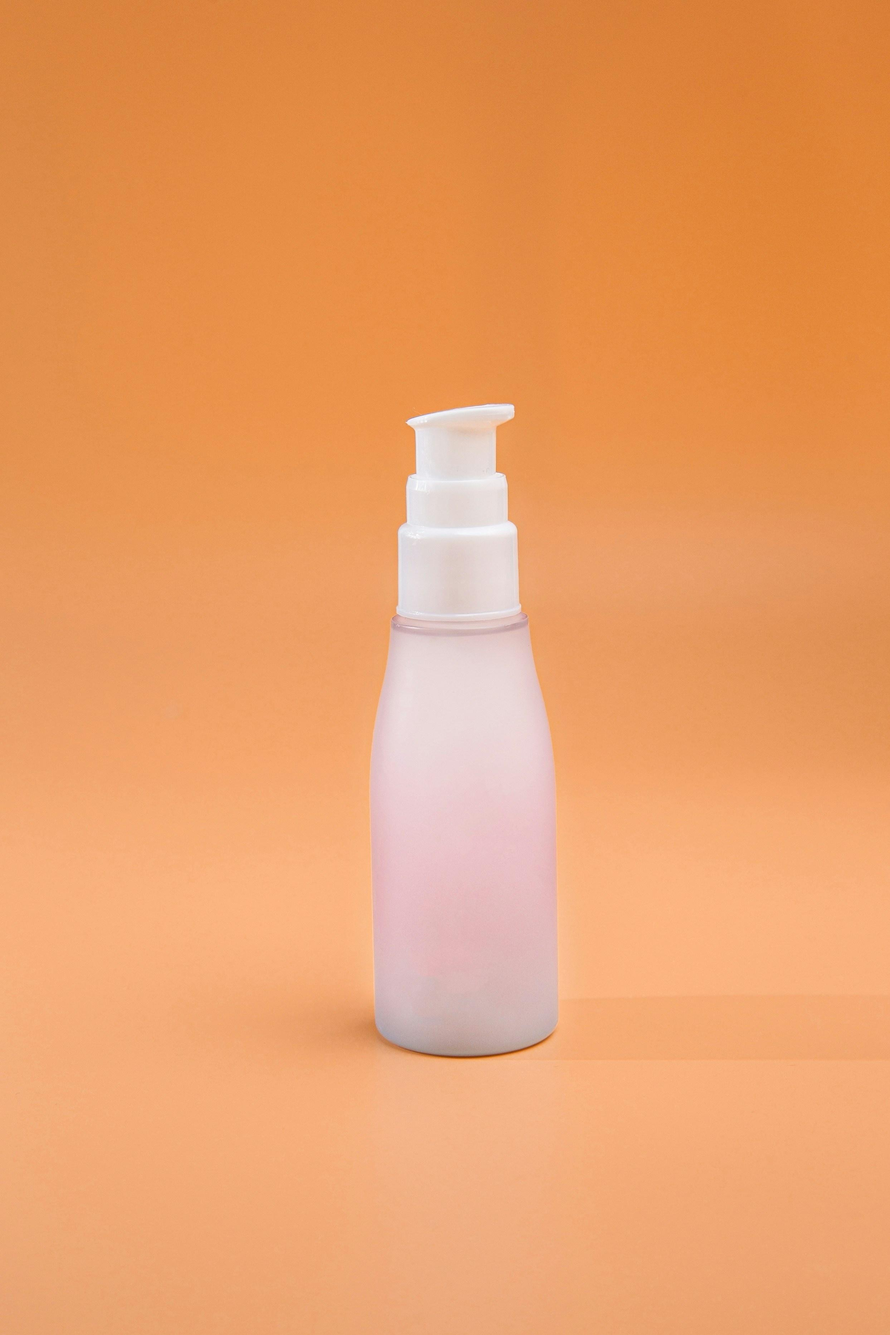Bottle-Detection: (286, 322, 641, 1120)
